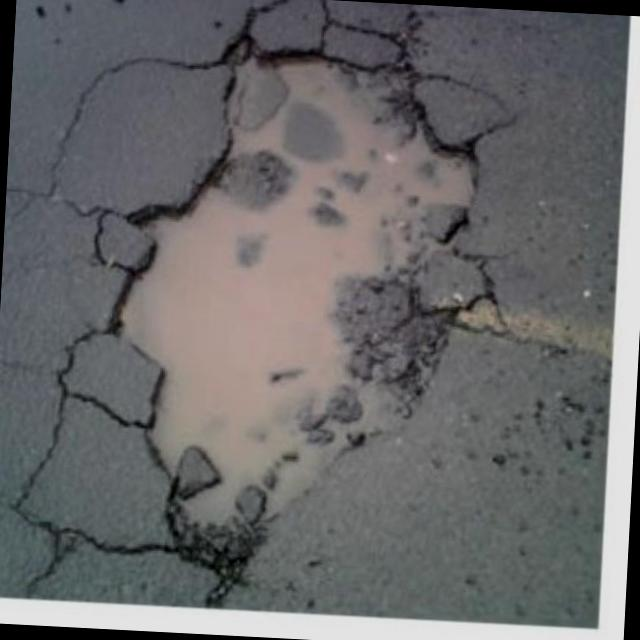pothole: (69, 19, 518, 609)
